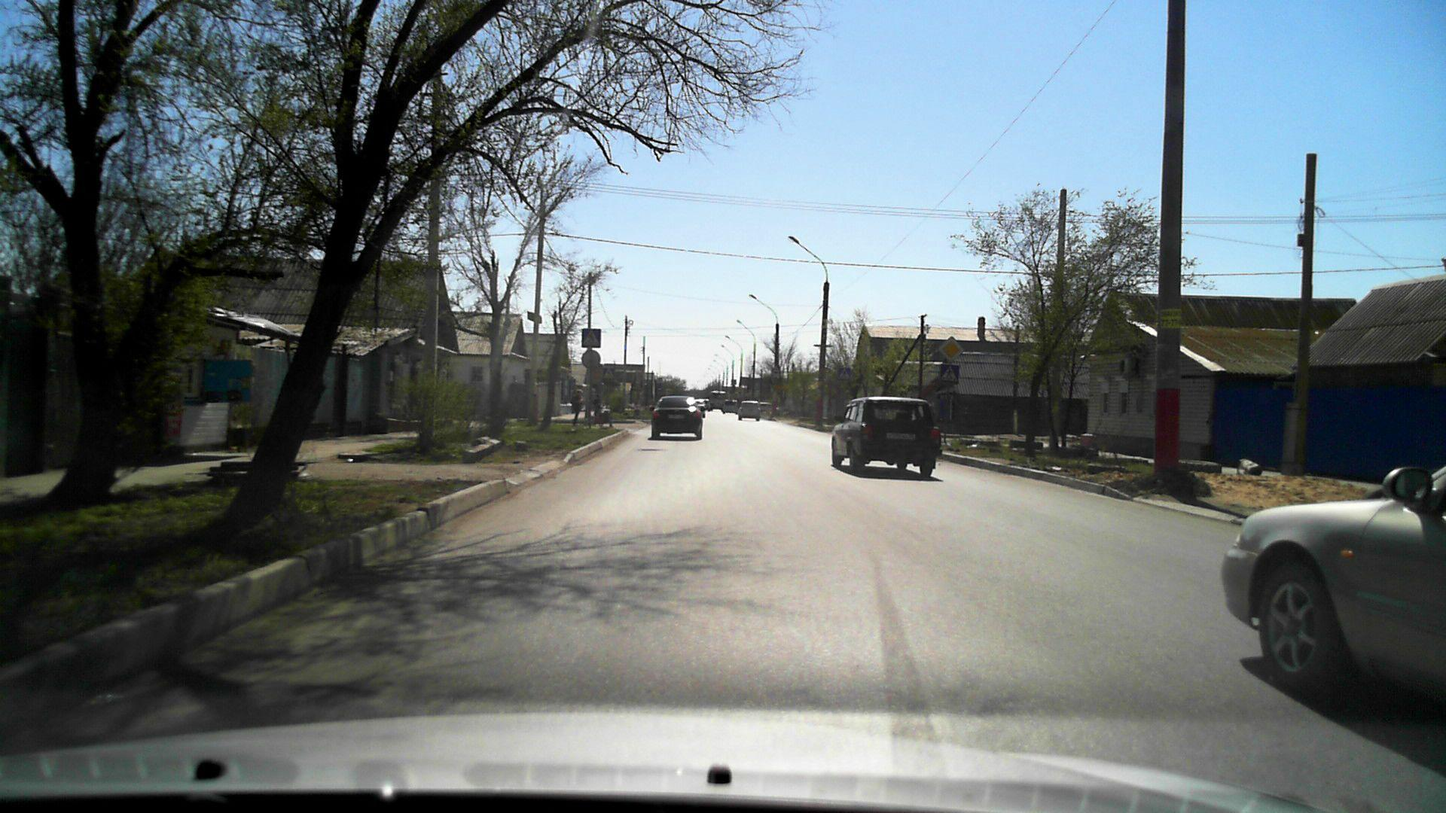road_sign: (938, 336, 966, 362)
